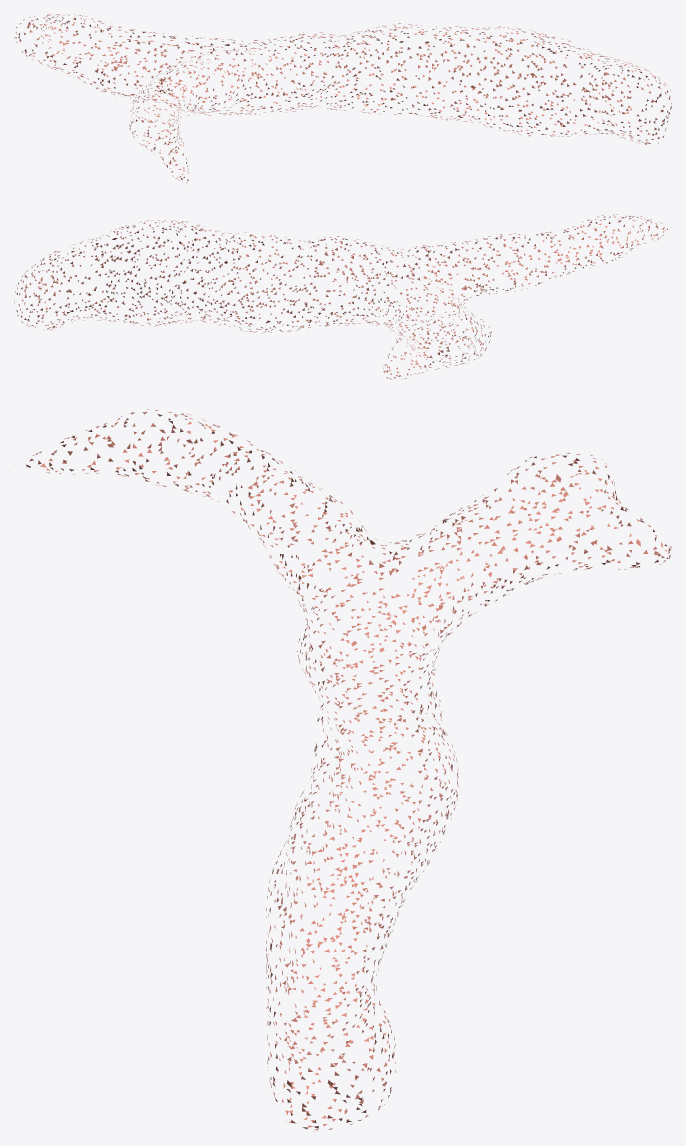
The model's file is morph_002.glb.
The picture shows the model from 3 angles, top to bottom: view 1: azimuth 30°, elevation 25°; view 2: azimuth 150°, elevation 25°; view 3: azimuth 270°, elevation 25°; orthographic projection. The views are drawn at different scales.
Bounding box in the file's own units: 138 × 47.58 × 88.77.
